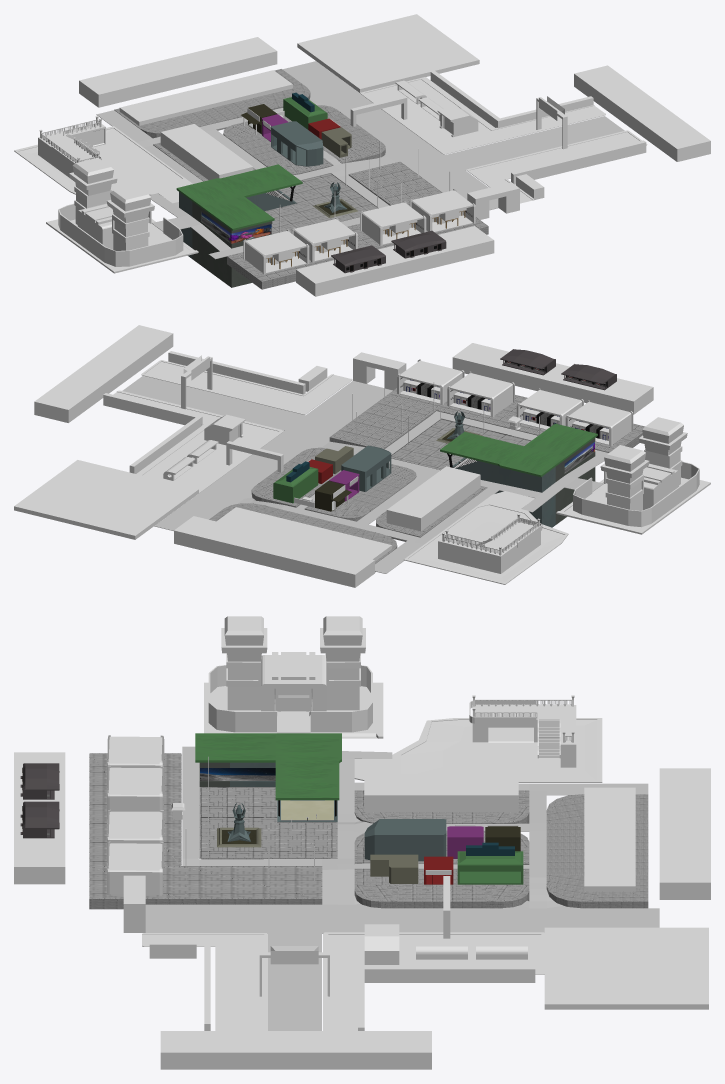
Rendered from BCEMapV2.fbx.
3 renders of one model, top to bottom at view 1: azimuth 30°, elevation 25°; view 2: azimuth 150°, elevation 25°; view 3: azimuth 270°, elevation 25°, orthographic. The views are drawn at different scales.
Visible parts, largest first — view 1: Road, morebuilding, Station, Plane.007, Plane, Plane.009, Plane.005, Plane.008, MoreShop, BuildingHolder, BuildingHolder.001, moreshop (+28 smaller); view 2: Road, morebuilding, Plane, Station, Plane.007, Plane.009, Plane.008, BuildingHolder, Plane.005, Plane.006, moreshop, MoreShop (+32 smaller); view 3: Road, morebuilding, Plane, Plane.009, Station, BuildingHolder, Plane.005, Plane.007, ShopArea.003, BuildingHolder.001, moreshop, Plane.006 (+31 smaller).
Boxes of the visible parts, box(x1,y1,x2,y2) form: Road: box(96, 61, 624, 259); morebuilding: box(297, 14, 479, 92); Station: box(176, 164, 302, 287); Plane.007: box(79, 37, 277, 107); Plane: box(14, 124, 192, 203); Plane.009: box(574, 65, 710, 161); Plane.005: box(360, 77, 605, 154); Plane.008: box(296, 226, 494, 296); MoreShop: box(119, 70, 292, 125); BuildingHolder: box(228, 162, 487, 281); BuildingHolder.001: box(265, 173, 377, 234); moreshop: box(160, 124, 253, 179); Road: box(122, 375, 608, 573); morebuilding: box(14, 460, 198, 539); Plane: box(404, 491, 568, 584); Station: box(440, 423, 597, 527); Plane.007: box(174, 516, 374, 587); Plane.009: box(34, 325, 173, 422); Plane.008: box(452, 343, 653, 414); BuildingHolder: box(331, 388, 644, 452); Plane.005: box(113, 390, 283, 493); Plane.006: box(141, 360, 352, 414); moreshop: box(386, 466, 480, 531); MoreShop: box(216, 507, 391, 561); Road: box(145, 732, 659, 1030); morebuilding: box(544, 927, 708, 1009); Plane: box(354, 705, 602, 782); Plane.009: box(160, 1031, 431, 1069); Station: box(195, 733, 341, 821); BuildingHolder: box(90, 754, 321, 898); Plane.005: box(323, 932, 544, 1030); Plane.007: box(659, 768, 710, 899); ShopArea.003: box(546, 794, 648, 908); BuildingHolder.001: box(200, 788, 336, 857); moreshop: box(364, 773, 518, 812); Plane.006: box(142, 933, 267, 1030).
Size of the model in its own units: 25423 by 4328 by 20129.
